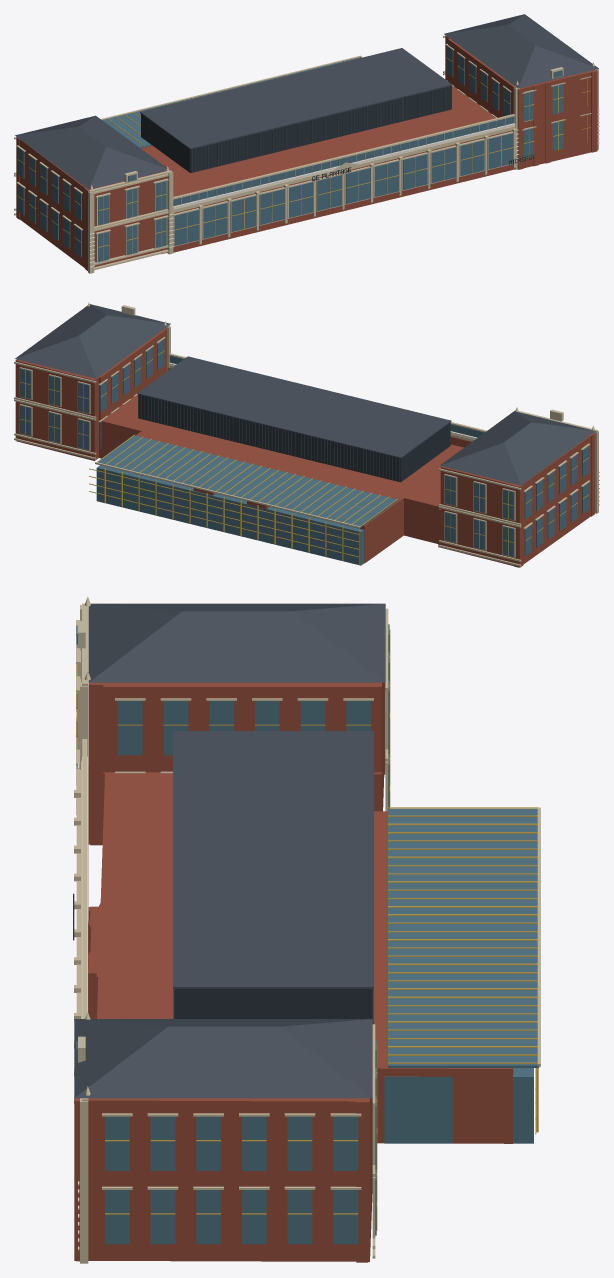
The model's file is micropia-ledenlokalen.glb.
3 views of the same model, one above another, from view 1: azimuth 30°, elevation 25°; view 2: azimuth 150°, elevation 25°; view 3: azimuth 270°, elevation 25° (orthographic). The views are drawn at different scales.
Visible parts, largest first — view 1: micropia-ledenlokalen; view 2: micropia-ledenlokalen; view 3: micropia-ledenlokalen.
Part boxes in pixels (left/top/right/bottom): micropia-ledenlokalen: left=14, top=14, right=599, bottom=273; micropia-ledenlokalen: left=14, top=302, right=599, bottom=567; micropia-ledenlokalen: left=73, top=596, right=540, bottom=1263.
Bounding box in the file's own units: 78.56 × 14.45 × 31.23.
